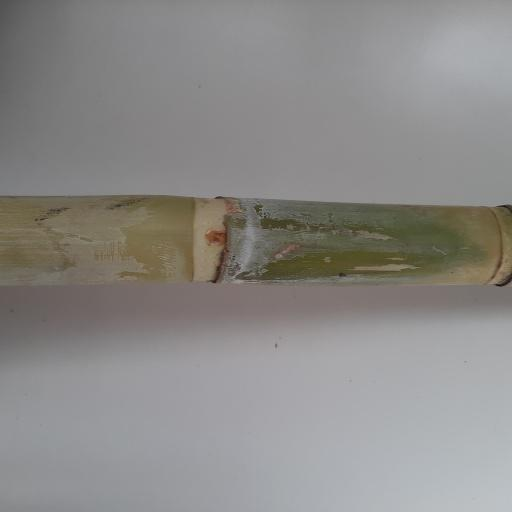Damage_Bud: (202, 229, 227, 247)
